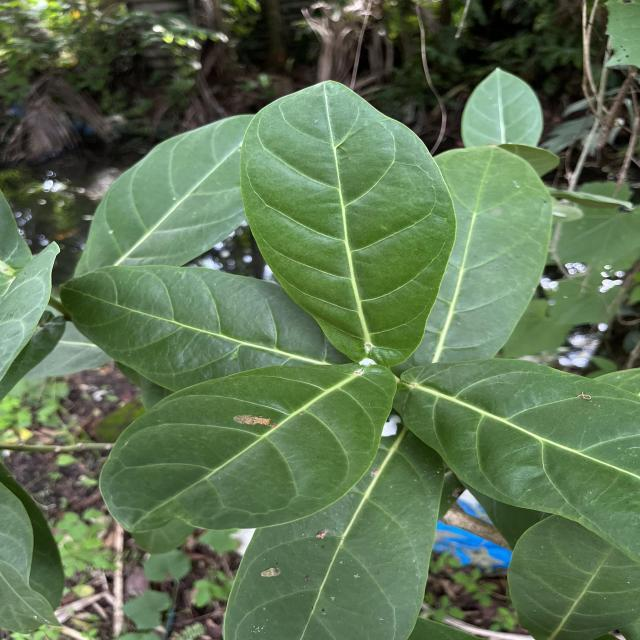Calotropis gigantea: (238, 78, 458, 372), (97, 360, 401, 532), (393, 356, 640, 566), (224, 430, 442, 640), (56, 260, 334, 394), (433, 142, 555, 370)
